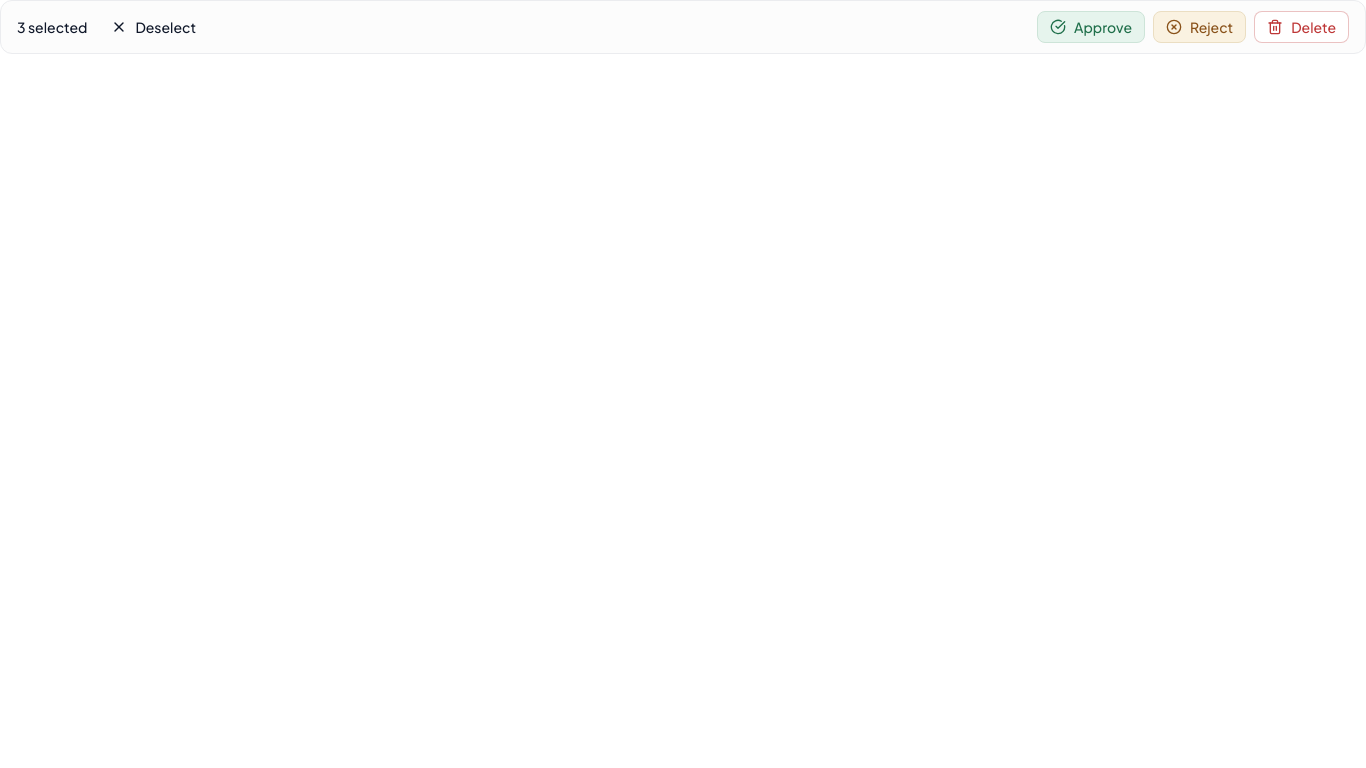
Test case: BulkActionsBar › dismisses results banner when dismiss button is clicked
Note: Trigger an action to get results
Click the button "Approve".
click(1091, 27)  # box [1037, 11, 1145, 43]
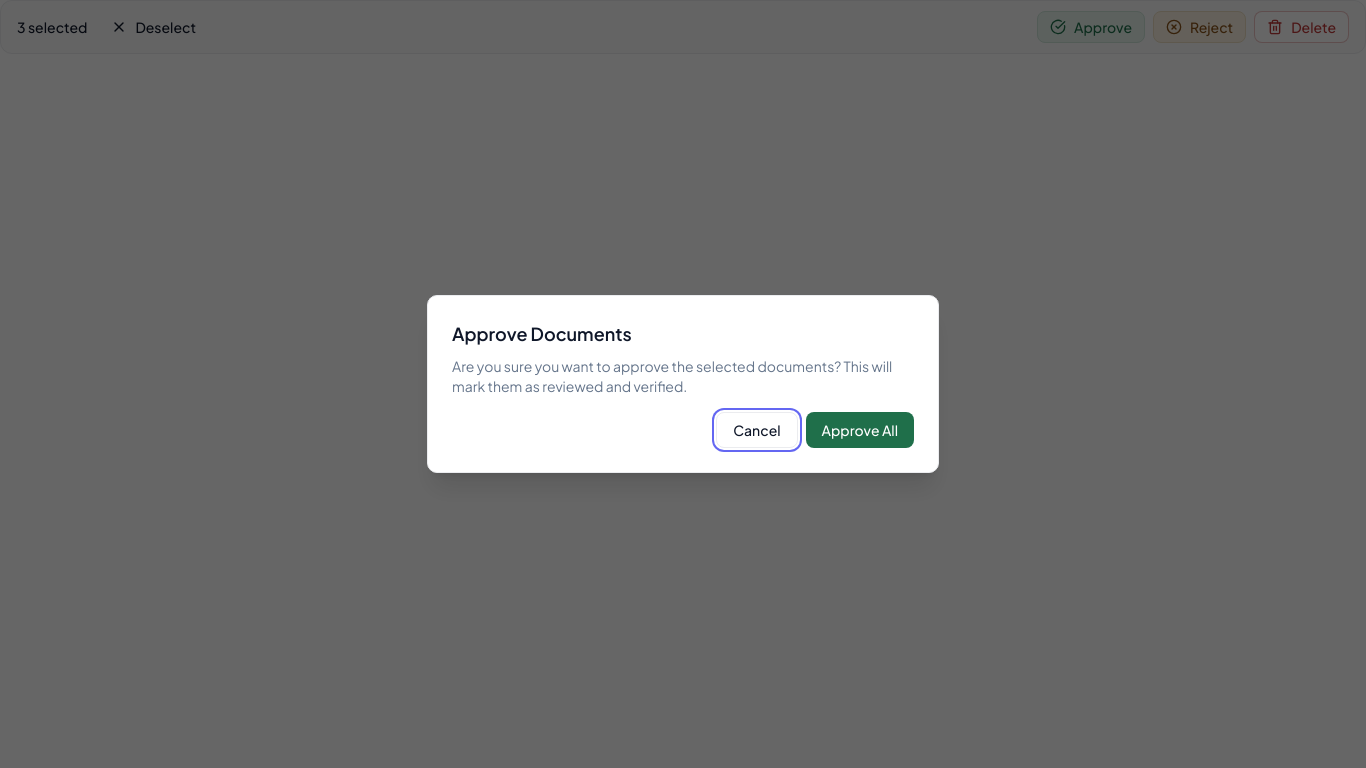
Click the button "Approve All".
click(860, 430)  # box [806, 412, 914, 448]
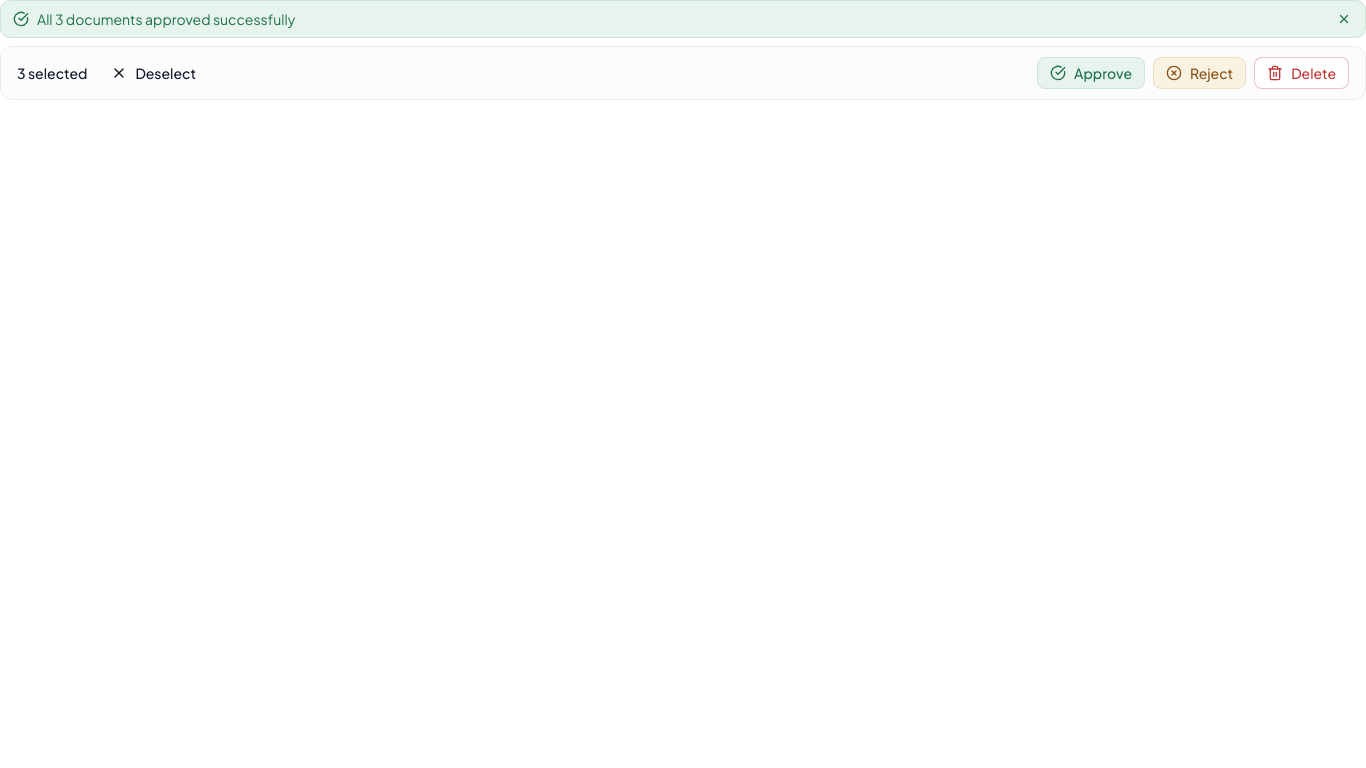
Expected: the message "All 3 documents approved successfully" is shown, [0, 0, 1365, 38]
Click the button named "dismiss results".
click(1344, 19)  # box [1335, 10, 1353, 28]
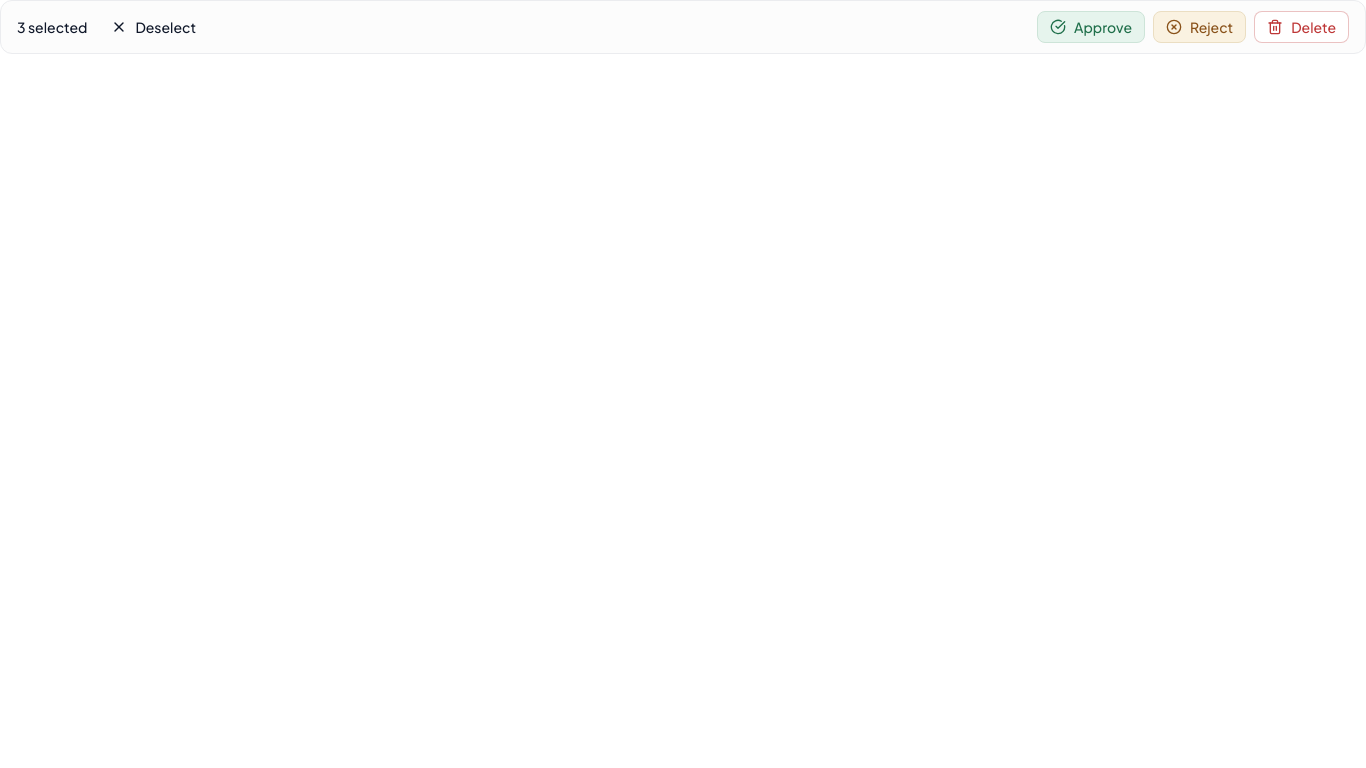
Expected: the message "All 3 documents approved successfully" is gone
